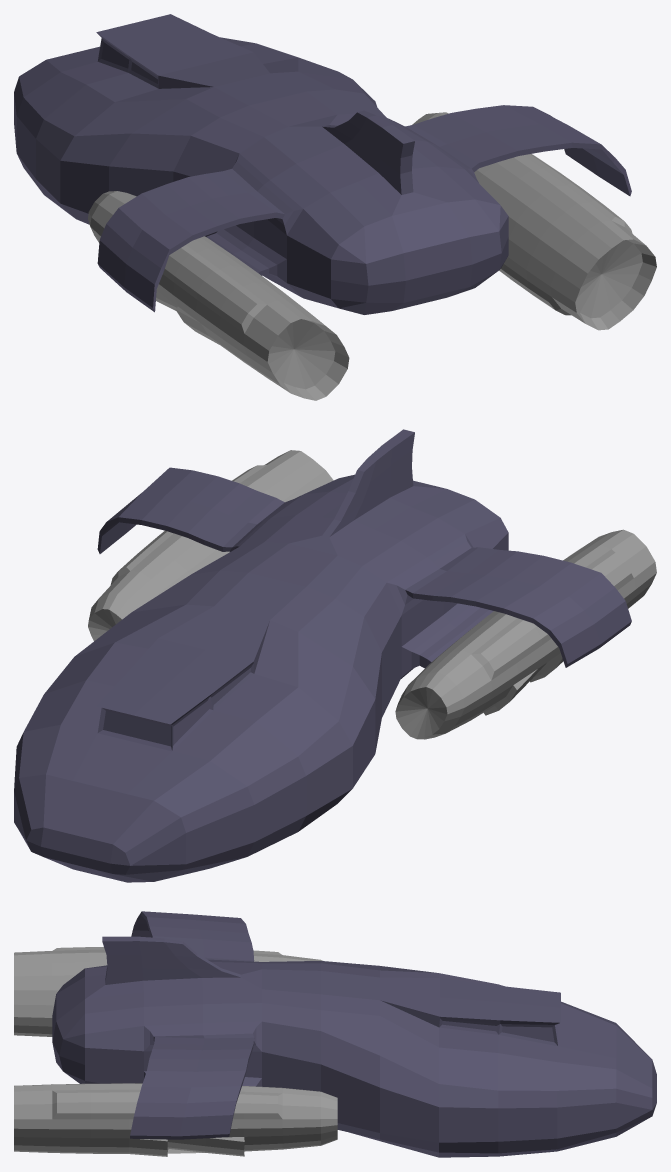
The model's file is Thor.fbx.
The picture shows the model from 3 angles, top to bottom: view 1: azimuth 30°, elevation 25°; view 2: azimuth 150°, elevation 25°; view 3: azimuth 270°, elevation 25°; orthographic projection. The views are drawn at different scales.
Visible parts, largest first — view 1: Box01, Cylinder02, Cylinder01; view 2: Box01, Cylinder01, Cylinder02; view 3: Box01, Cylinder02, Cylinder01.
Boxes of the visible parts, bbox=[...] form: Box01: bbox=[14, 14, 631, 314]; Cylinder02: bbox=[412, 112, 656, 330]; Cylinder01: bbox=[88, 191, 349, 400]; Box01: bbox=[14, 429, 631, 882]; Cylinder01: bbox=[395, 529, 656, 739]; Cylinder02: bbox=[88, 450, 333, 640]; Box01: bbox=[52, 911, 656, 1157]; Cylinder02: bbox=[14, 1083, 337, 1156]; Cylinder01: bbox=[14, 947, 322, 1036].
Size of the model in its own units: 7.79 by 3.54 by 10.89.
